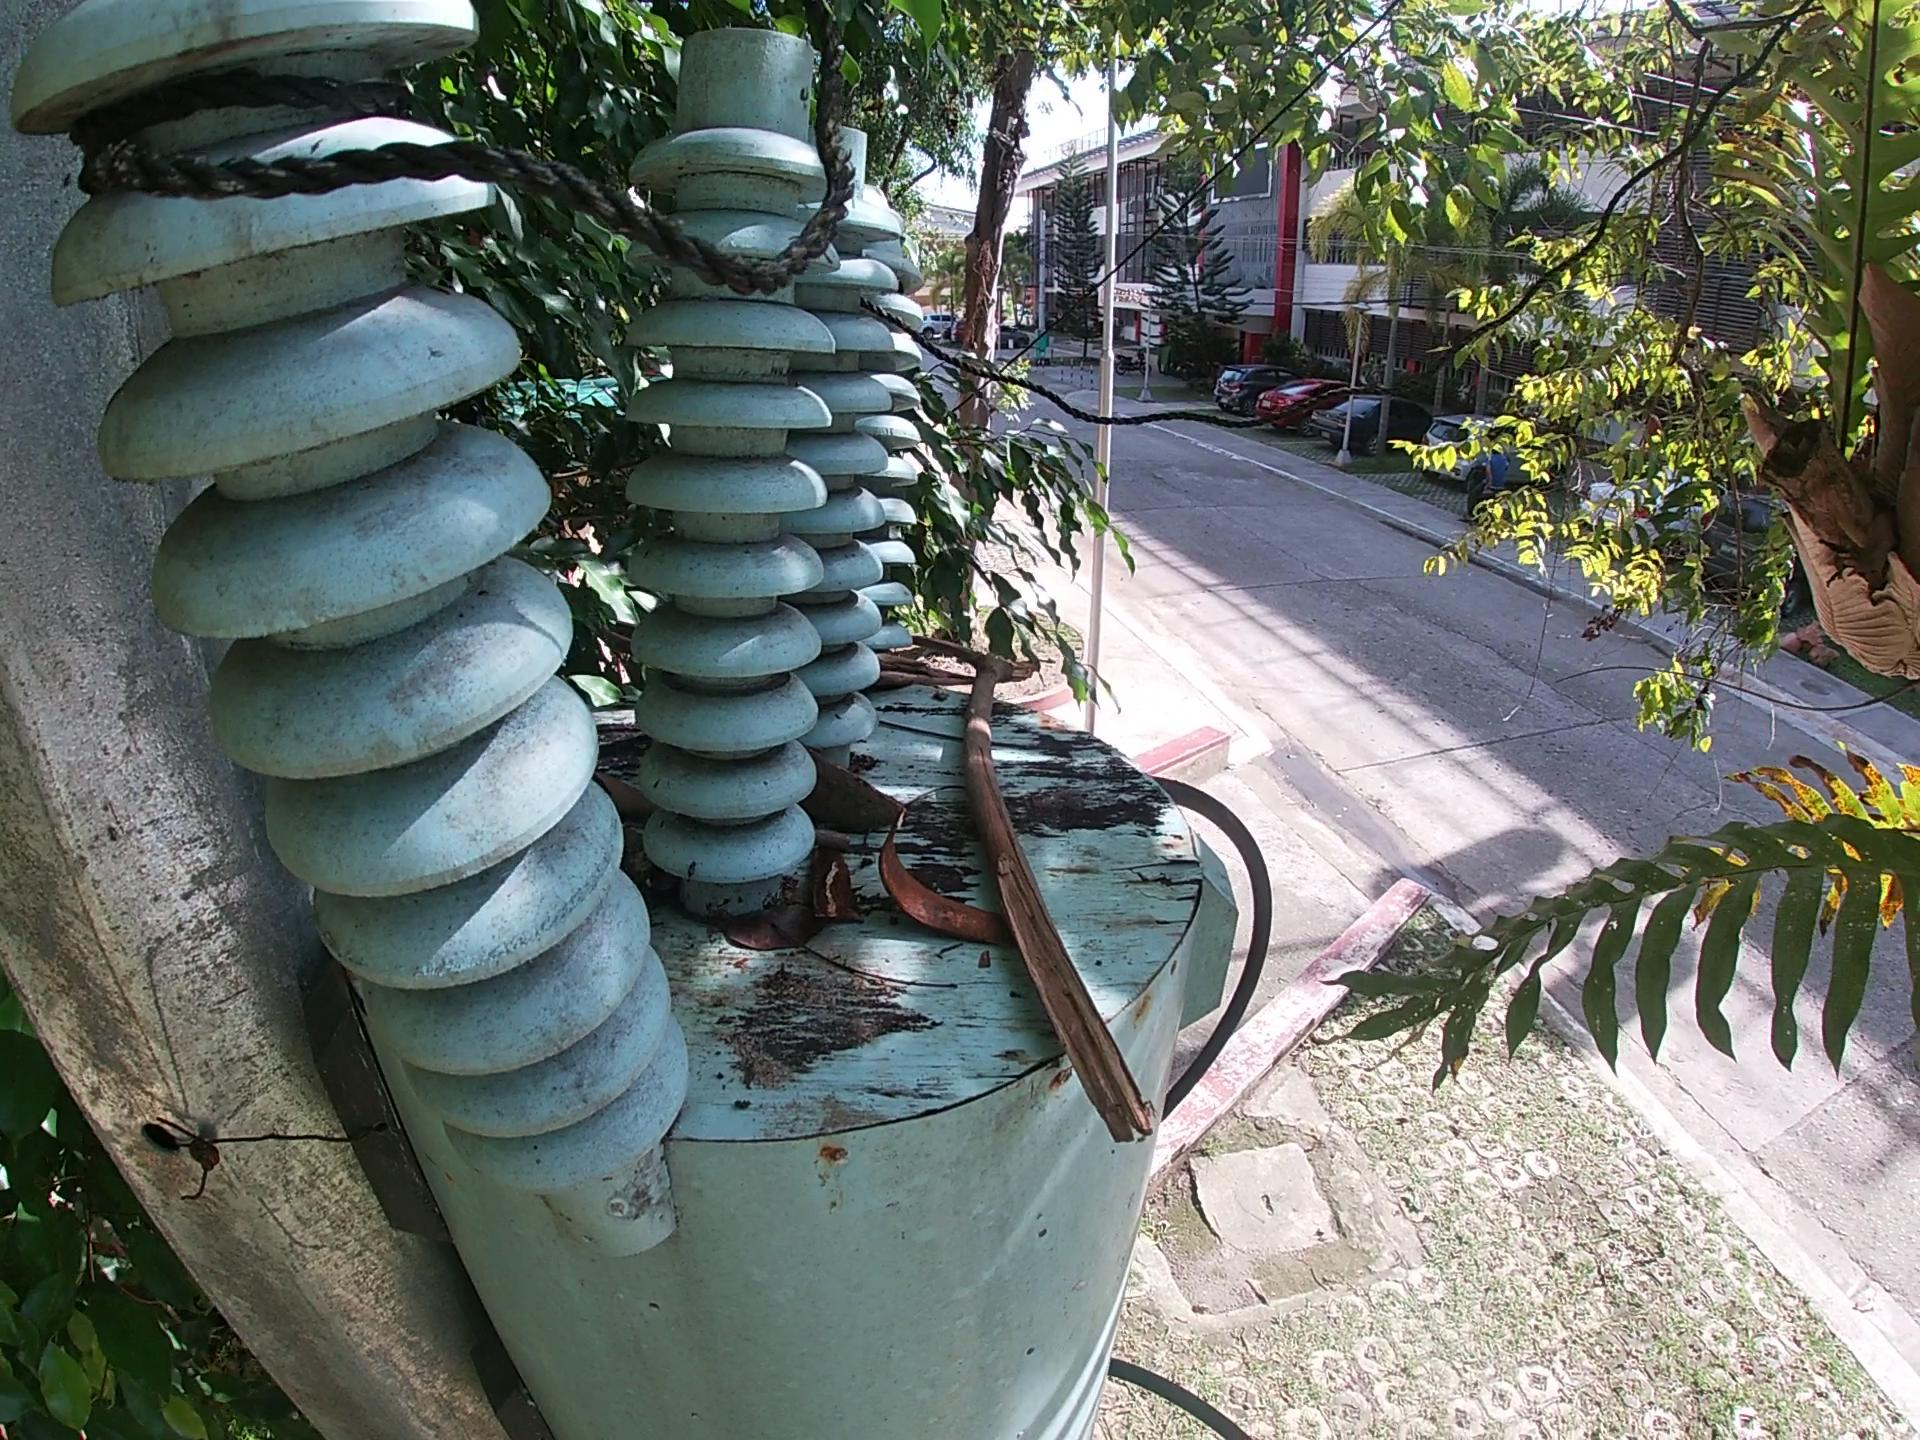leaf: (714, 874, 822, 957)
mahogany fruit: (874, 808, 1016, 953), (795, 746, 915, 833), (797, 846, 859, 927)
tree branch: (910, 632, 1160, 1150), (865, 647, 980, 697), (816, 824, 859, 852)
